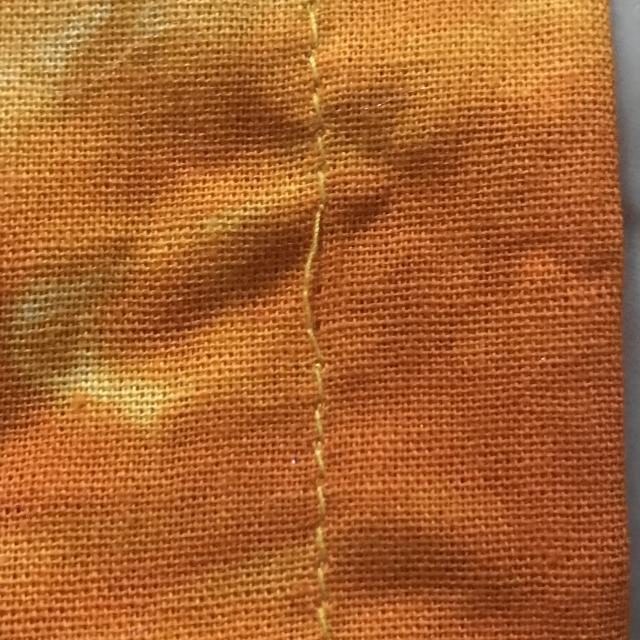good: (302, 413, 339, 569)
skip: (247, 185, 362, 375)
